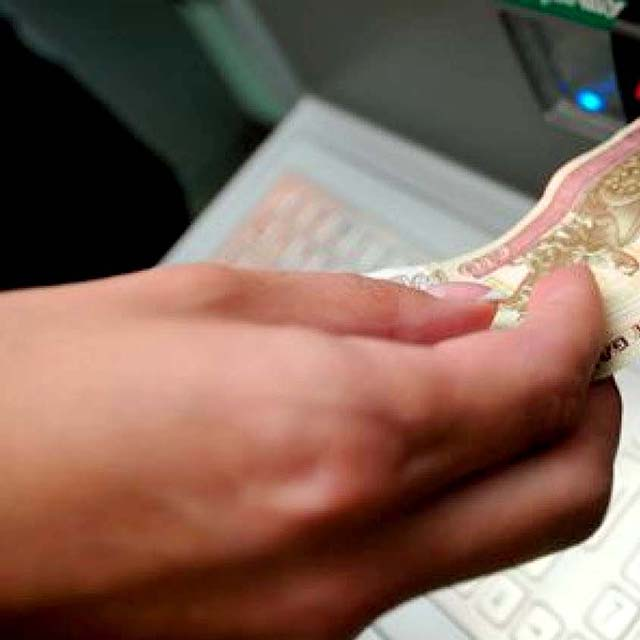banknotes: (360, 117, 639, 378)
